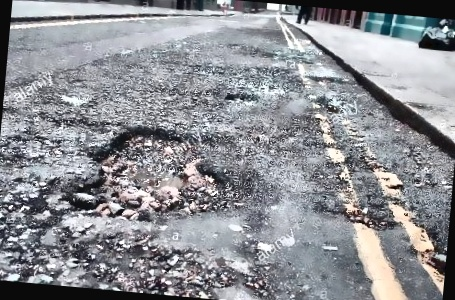pothole: (58, 115, 254, 232), (223, 91, 256, 104)
